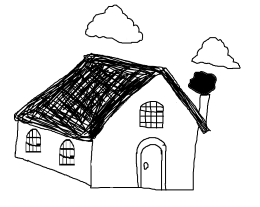closed_window: (135, 96, 172, 132), (53, 135, 85, 170), (23, 126, 45, 157)
clouds: (81, 0, 155, 49), (189, 29, 247, 72)
door: (126, 129, 176, 195)
shaded_roof: (8, 48, 213, 139)
smoking_chimney: (184, 66, 220, 128)
wall: (87, 71, 211, 192)
